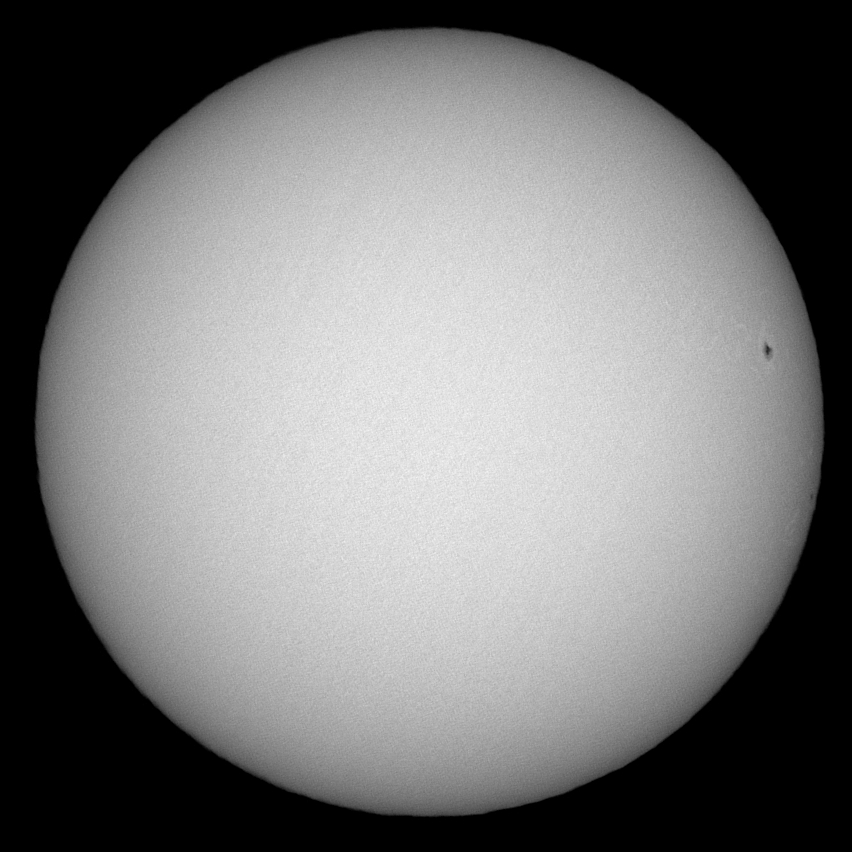sunspot: (760, 338, 775, 364)
